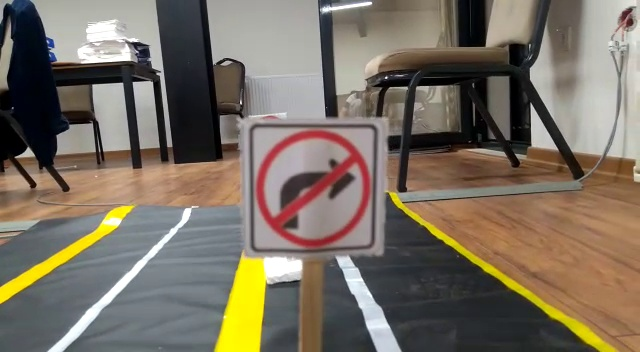saga_donulmez: (250, 125, 378, 252)
